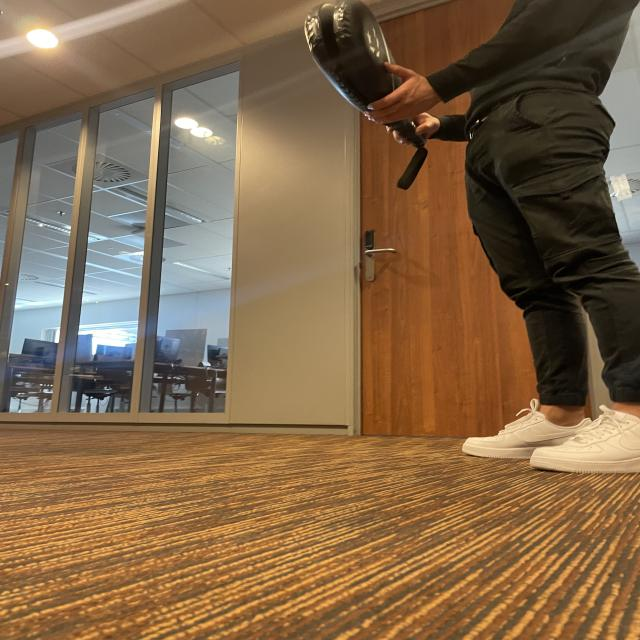paddle: (307, 4, 398, 91)
